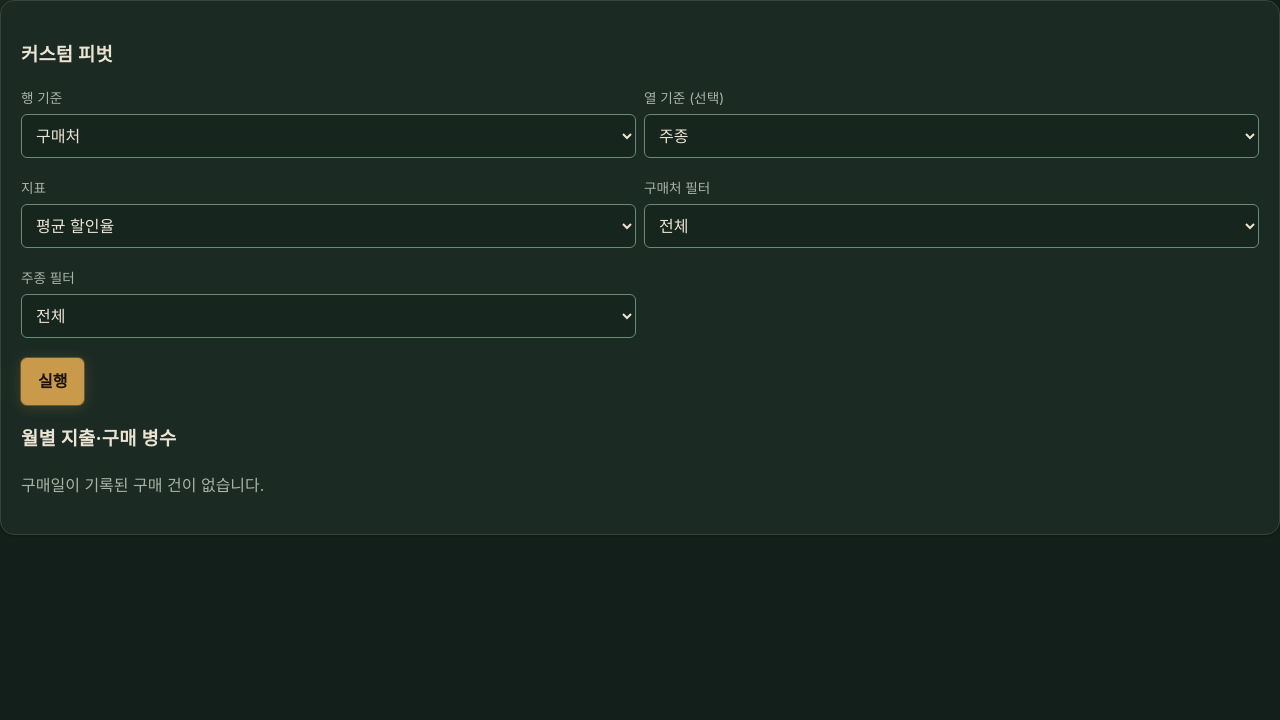
Test: PivotExplorer › 열 축을 지정해 실행하면 행×열 표를 보여준다
What coordinates should you click on to do the following:
click the button "실행"
I would click on:
 (53, 381)
Its box is 21,358 -> 84,405.
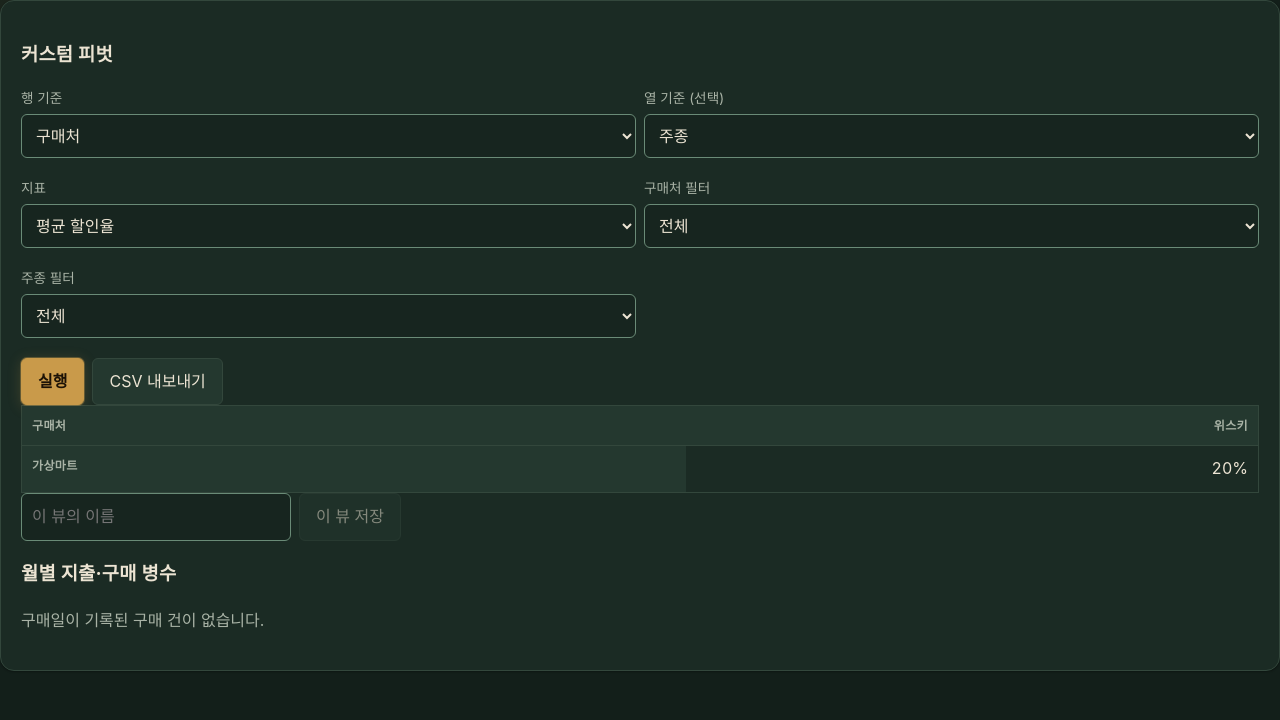
Now the column heading "가상마트" is shown, box 22,446 -> 686,492
Now the column heading "위스키" is shown, box 686,406 -> 1258,446
Now the text "20%" is shown, box 686,446 -> 1258,492
